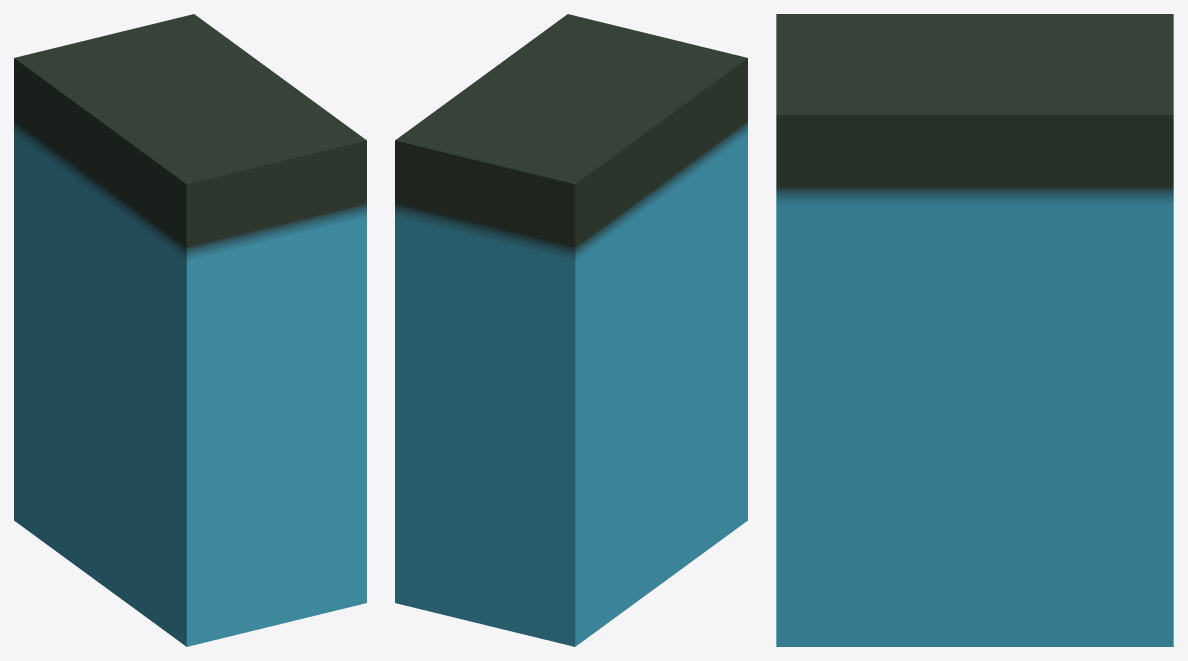
The model's file is Itr_Obj_Book3_04.FBX.
3 views of the same model, side by side, from view 1: azimuth 30°, elevation 25°; view 2: azimuth 150°, elevation 25°; view 3: azimuth 270°, elevation 25° (orthographic). The views are drawn at different scales.
Visible parts, largest first — view 1: Itr_Obj_Book3_04; view 2: Itr_Obj_Book3_04; view 3: Itr_Obj_Book3_04.
Part boxes in pixels (x1,y1,x2,y2): Itr_Obj_Book3_04: (14, 14, 366, 646); Itr_Obj_Book3_04: (395, 14, 747, 646); Itr_Obj_Book3_04: (776, 14, 1173, 646).
Bounding box in the file's own units: 3.41 × 8.38 × 5.67.
